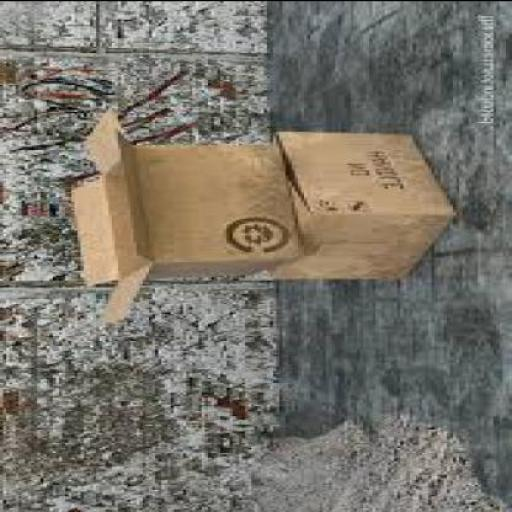cardboard: (69, 110, 298, 322), (260, 128, 456, 276), (137, 142, 304, 258), (276, 128, 450, 214)
